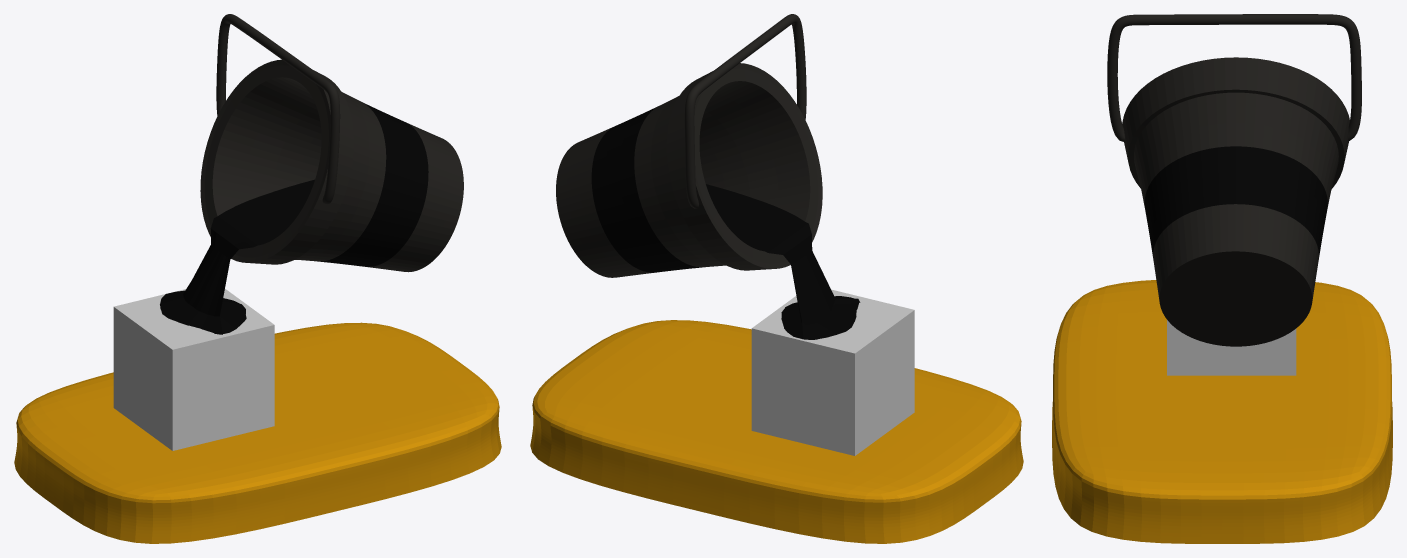
The model's file is fill_black_btn.obj.
3 renders of one model, left to right at view 1: azimuth 30°, elevation 25°; view 2: azimuth 150°, elevation 25°; view 3: azimuth 270°, elevation 25°, orthographic. The views are drawn at different scales.
Parts seen in each view (by area): view 1: Cube, Cylinder, Cube.001, Cylinder.001; view 2: Cube, Cylinder, Cube.001, Cylinder.001; view 3: Cube, Cylinder, Cube.001.
Part boxes in pixels (left/top/right/bottom): Cube: left=14, top=322, right=501, bottom=543; Cylinder: left=200, top=14, right=463, bottom=272; Cube.001: left=113, top=289, right=274, bottom=450; Cylinder.001: left=160, top=179, right=314, bottom=334; Cube: left=530, top=320, right=1023, bottom=543; Cylinder: left=556, top=14, right=822, bottom=277; Cube.001: left=751, top=289, right=914, bottom=455; Cylinder.001: left=706, top=184, right=860, bottom=339; Cube: left=1052, top=280, right=1392, bottom=543; Cylinder: left=1107, top=14, right=1361, bottom=346; Cube.001: left=1167, top=320, right=1296, bottom=375.
Bounding box in the file's own units: 17.54 × 16.18 × 11.5.
